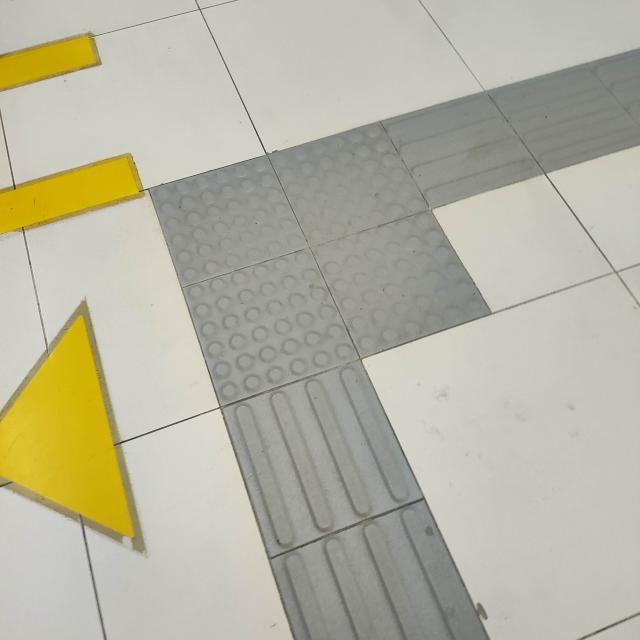kanan: (100, 45, 634, 470)
